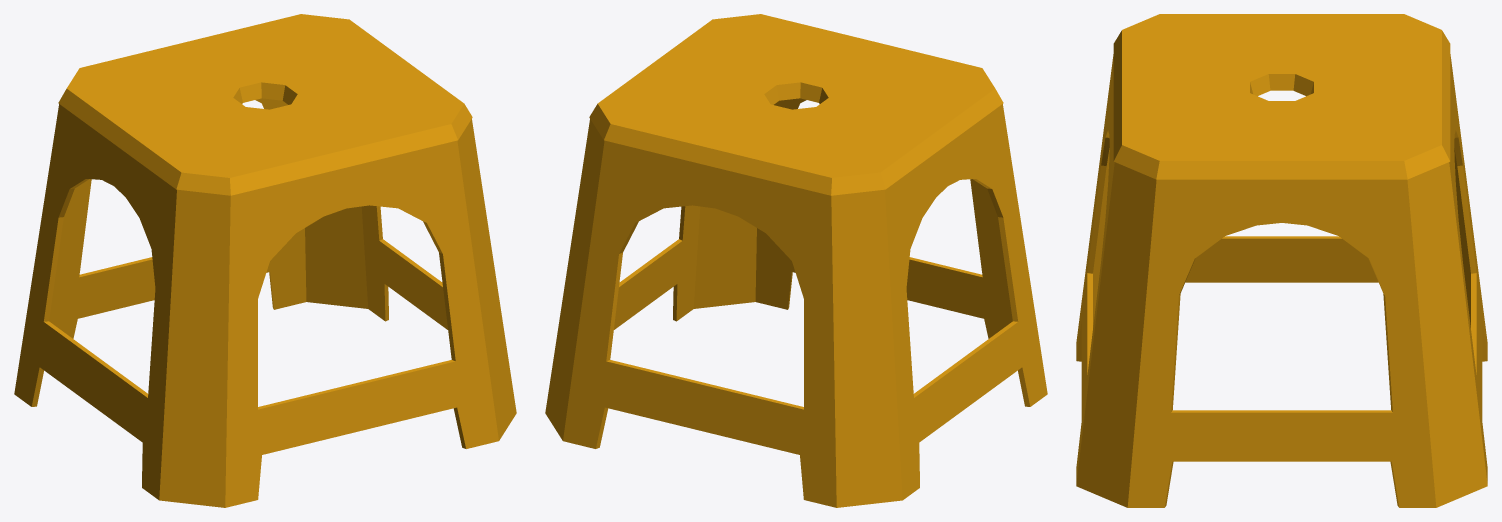
Rendered from SM_Furniture_StoolLow_Yellow_01.fbx.
3 views of the same model, side by side, from view 1: azimuth 30°, elevation 25°; view 2: azimuth 150°, elevation 25°; view 3: azimuth 270°, elevation 25° (orthographic). The views are drawn at different scales.
Visible parts, largest first — view 1: SM_Furniture_StoolLow_Yellow_01; view 2: SM_Furniture_StoolLow_Yellow_01; view 3: SM_Furniture_StoolLow_Yellow_01.
Boxes of the visible parts, <box> form: SM_Furniture_StoolLow_Yellow_01: <box>14,14,516,507</box>; SM_Furniture_StoolLow_Yellow_01: <box>545,14,1047,507</box>; SM_Furniture_StoolLow_Yellow_01: <box>1076,14,1487,507</box>.
Bounding box in the file's own units: 0.316 × 0.26 × 0.296.
1 material, 1 textured.
